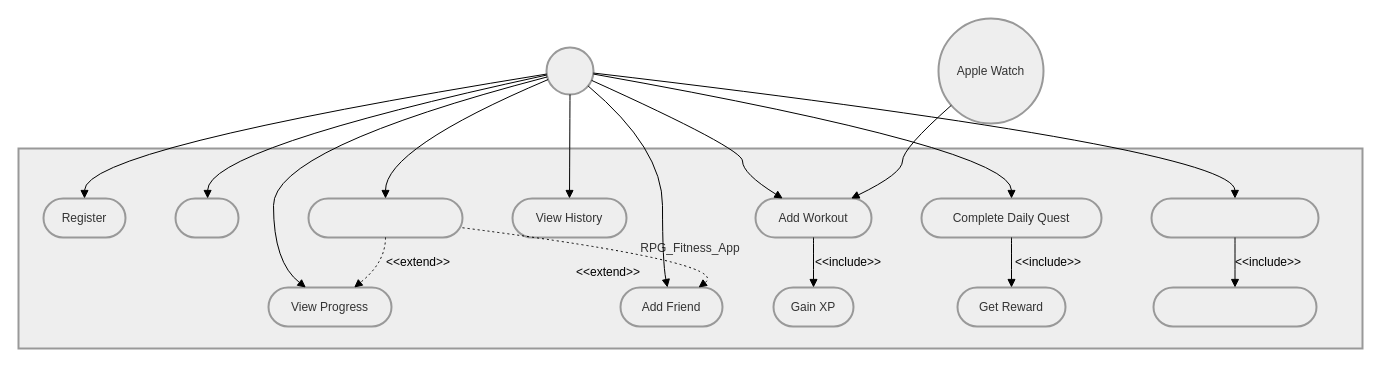
The diagram is 1380 pixels wide and 366 high, and some of its shapes have lost their labels. The centre of each missing label's shape, as x and y in pixels:
"Enter Physical Data" goes at [1234,306].
"Generate Character" goes at [1234,217].
"Login" goes at [206,217].
"User" goes at [569,70].
"View Leaderboard" goes at [385,217].
